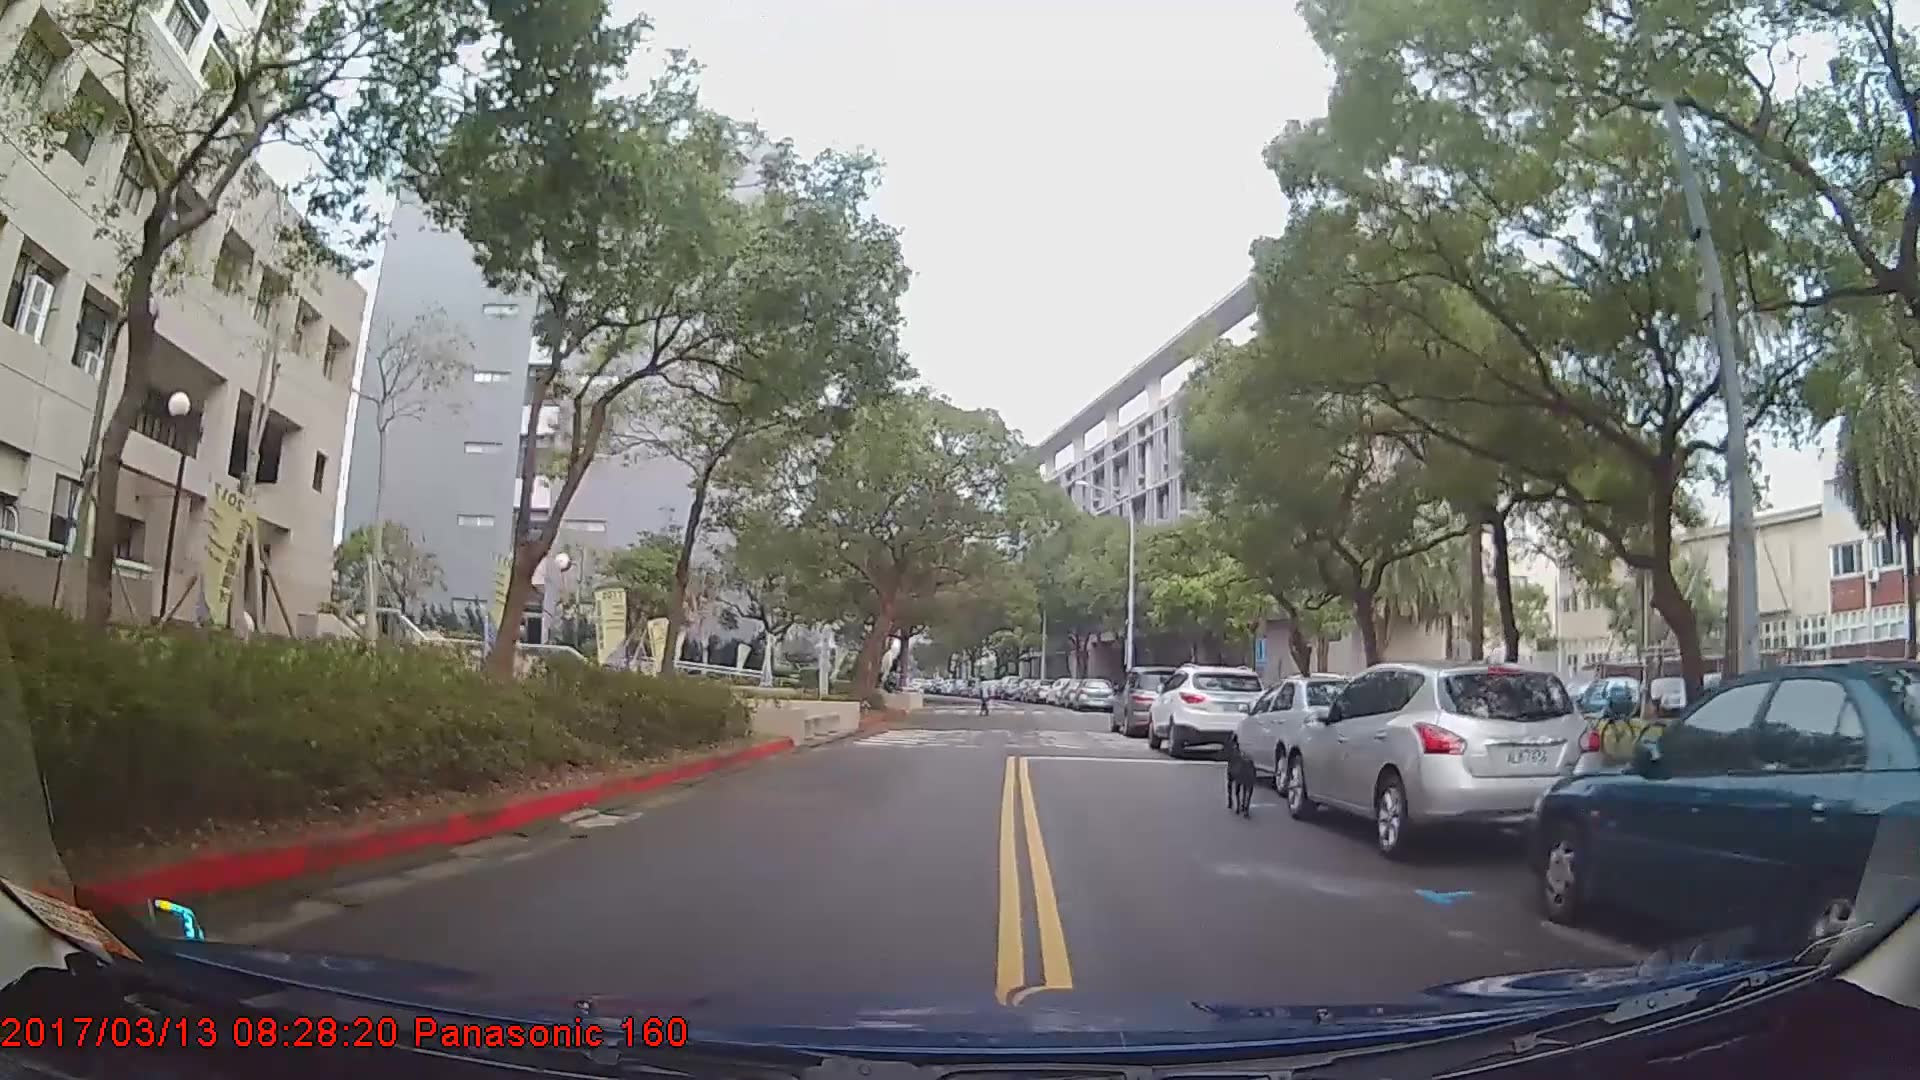pedestrian: (976, 679, 996, 720)
vehicle: (1531, 661, 1920, 974), (1290, 663, 1610, 859), (1227, 673, 1391, 798), (1149, 666, 1272, 761), (1109, 665, 1202, 736), (1074, 676, 1114, 711)
